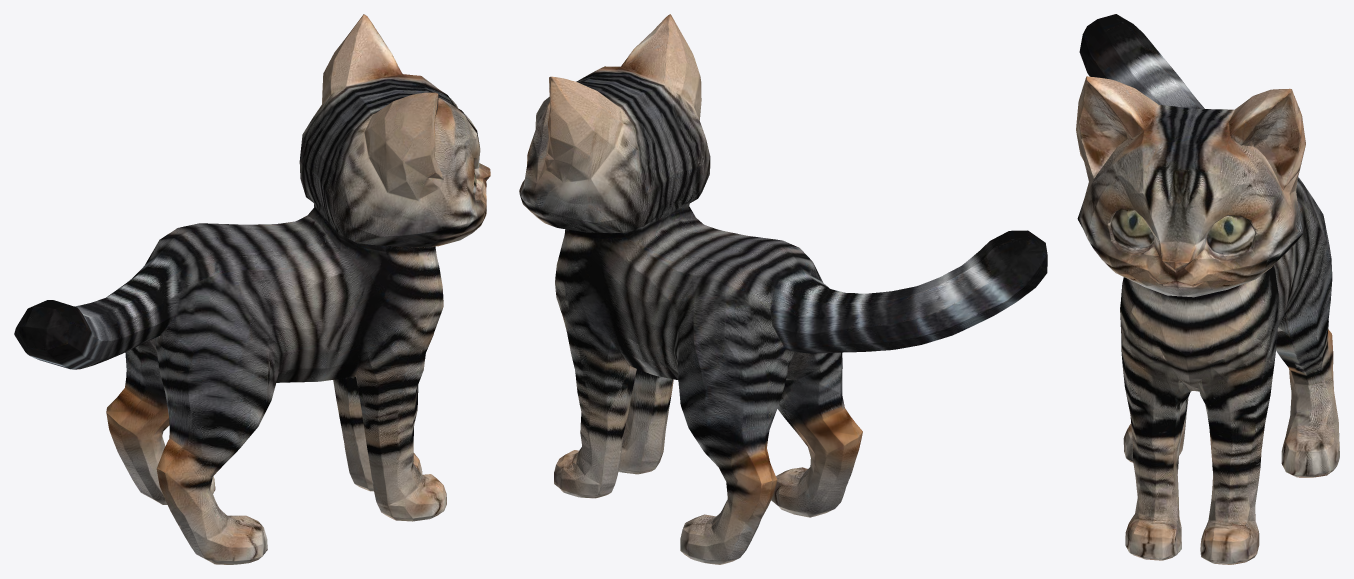
The model's file is CABLETAIL.glb.
The picture shows the model from 3 angles, left to right: view 1: azimuth 30°, elevation 25°; view 2: azimuth 150°, elevation 25°; view 3: azimuth 270°, elevation 25°; orthographic projection. The views are drawn at different scales.
Visible parts, largest first — view 1: fit; view 2: fit; view 3: fit.
Boxes of the visible parts, <box> form: fit: <box>14,14,490,564</box>; fit: <box>519,14,1047,564</box>; fit: <box>1076,14,1339,564</box>.
Size of the model in its own units: 1.17 by 1 by 0.5123.
Materials: 1 (1 with a texture image).
